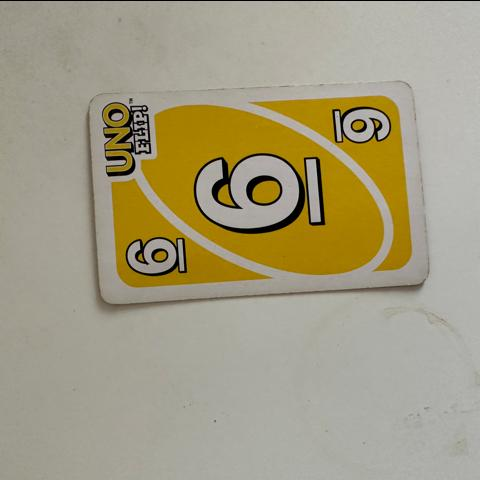draw2_green: (193, 153, 336, 233), (328, 104, 398, 145), (120, 236, 183, 275)
